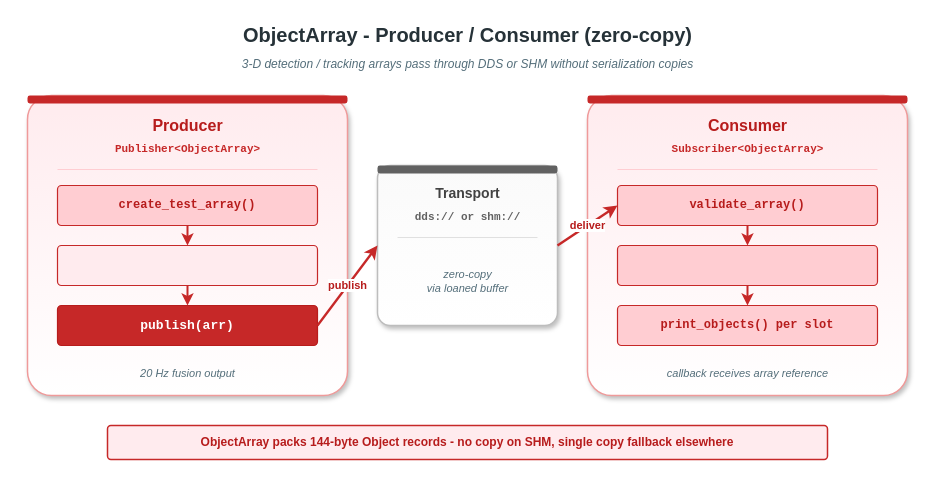
Some shapes in this 934 by 477 pixel diagram are drawn without their labels. Each missing label, with the centre of its shape:
print_array_info(): the point at 747,265
push 4 Objects (car/ped/cyclist): the point at 187,265
